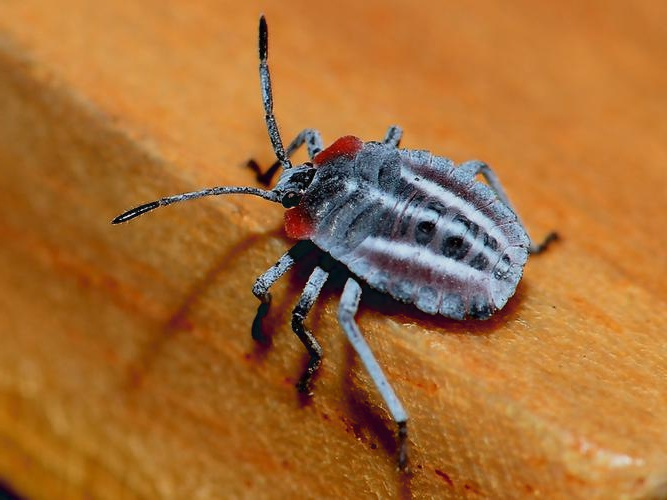Stink_Bug: (223, 103, 513, 324)
